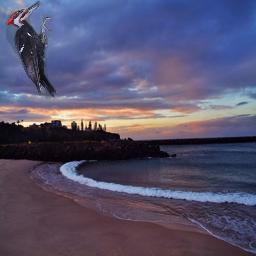Woodpecker: (6, 1, 57, 99)
